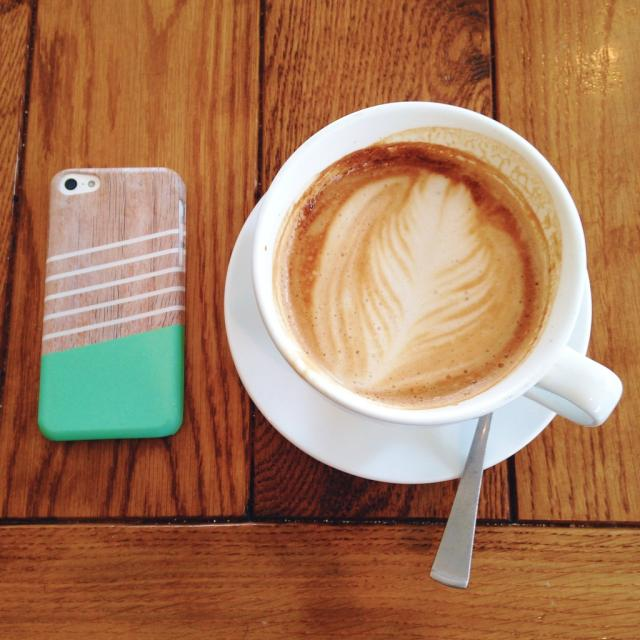Coffee: (271, 148, 548, 396)
